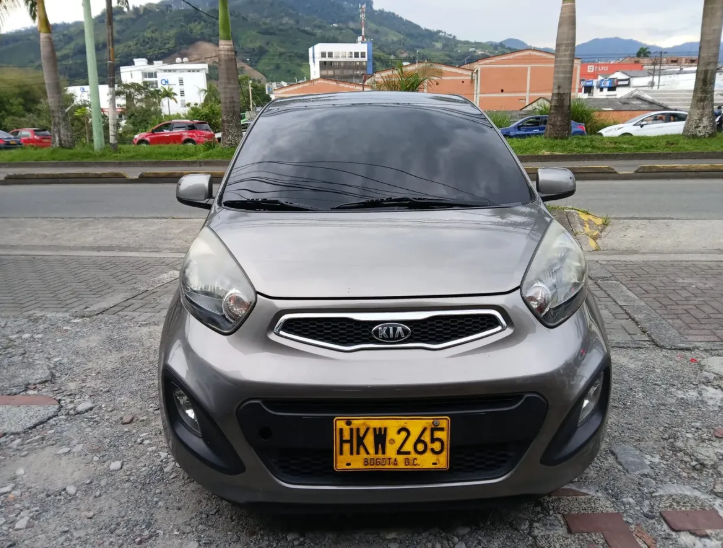placa: (334, 418, 449, 469)
